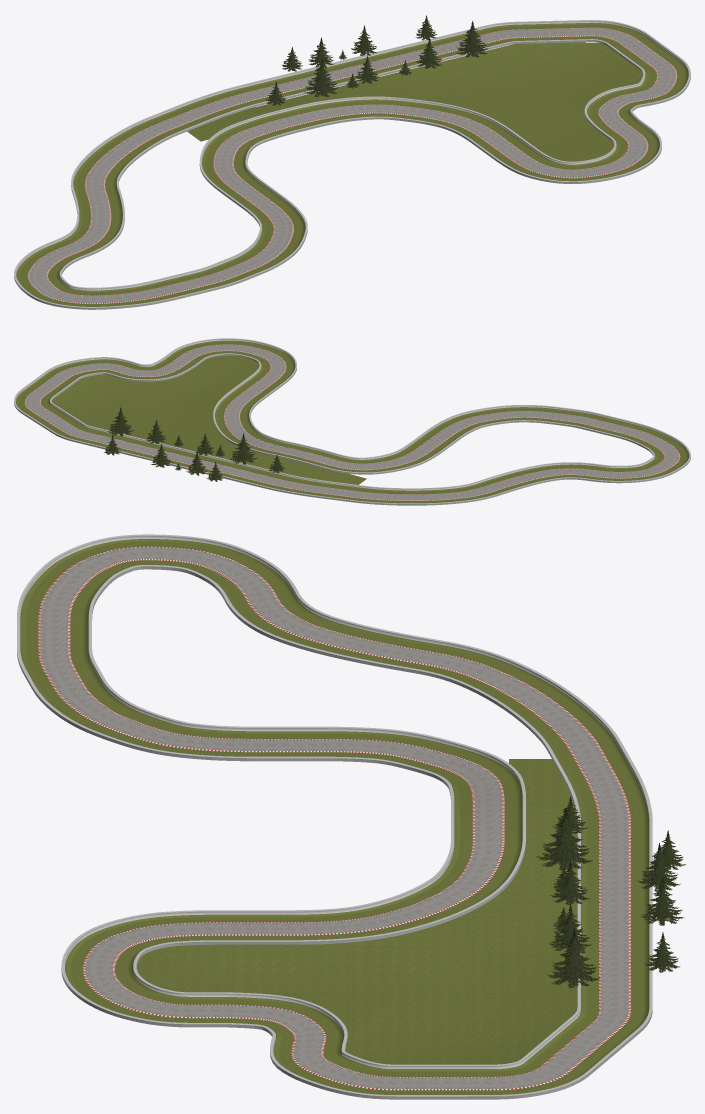
The model's file is racetrack.gltf.
3 renders of one model, top to bottom at view 1: azimuth 30°, elevation 25°; view 2: azimuth 150°, elevation 25°; view 3: azimuth 270°, elevation 25°, orthographic. The views are drawn at different scales.
Parts seen in each view (by area): view 1: road, Plane, spruce1.010, spruce1.007; view 2: road, Plane, spruce1.010, spruce1.007; view 3: road, Plane, spruce1.010, spruce1.007, spruce1.005, spruce1.002.
Boxes of the visible parts, x1,y1,x2,y2 form: road: [14, 20, 690, 309]; Plane: [187, 42, 642, 161]; spruce1.010: [304, 58, 338, 96]; spruce1.007: [456, 21, 488, 57]; road: [14, 338, 690, 505]; Plane: [51, 355, 366, 484]; spruce1.010: [229, 433, 257, 464]; spruce1.007: [107, 407, 133, 436]; road: [17, 534, 652, 1099]; Plane: [136, 759, 577, 1064]; spruce1.010: [536, 807, 592, 870]; spruce1.007: [546, 928, 599, 987]; spruce1.005: [640, 877, 684, 925]; spruce1.002: [637, 843, 680, 891].
Bounding box in the file's own units: 778 × 42.15 × 393.
5 materials, 5 textured.
